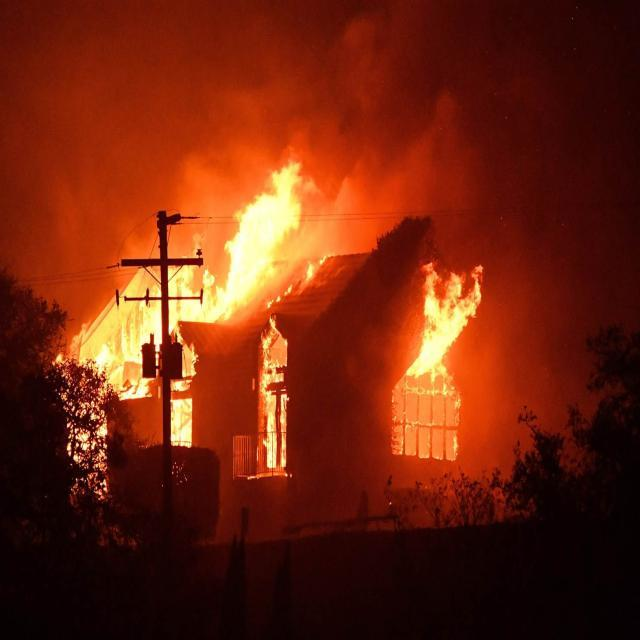Fire: (99, 161, 303, 351), (405, 276, 488, 374), (258, 326, 292, 483)
Smoke: (172, 5, 638, 273)
